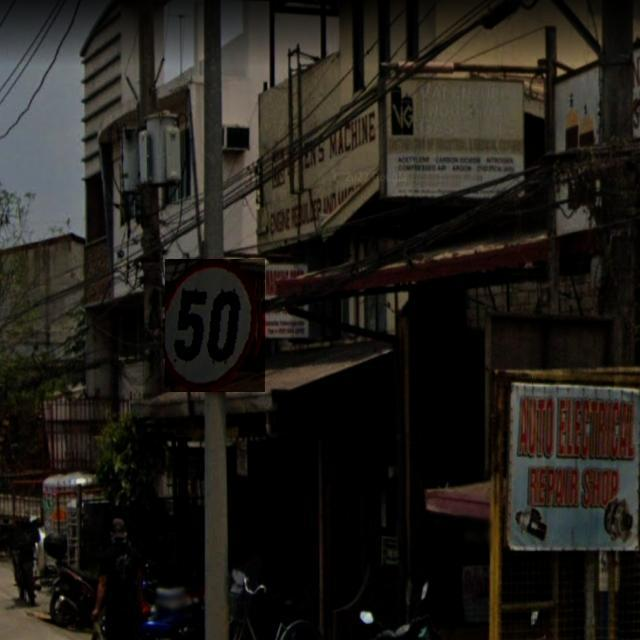50 kph: (166, 259, 266, 392)
